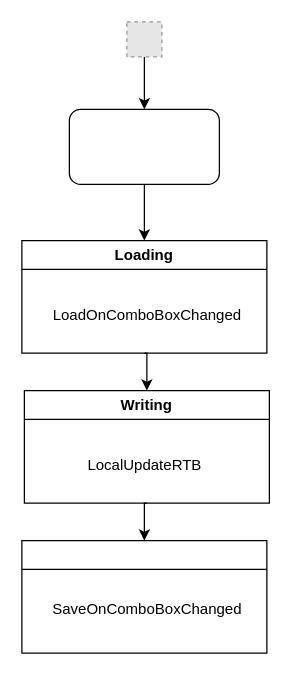
Image size: 291x675. Some labels were removed from this diagram. Grey dashed boxes stand in for pictures. The box of each missing label's shape, as (x1, y1, x2, y2) in pixels:
Not Writing: (21, 539, 267, 653)
WaitingInitialize: (68, 108, 219, 184)
